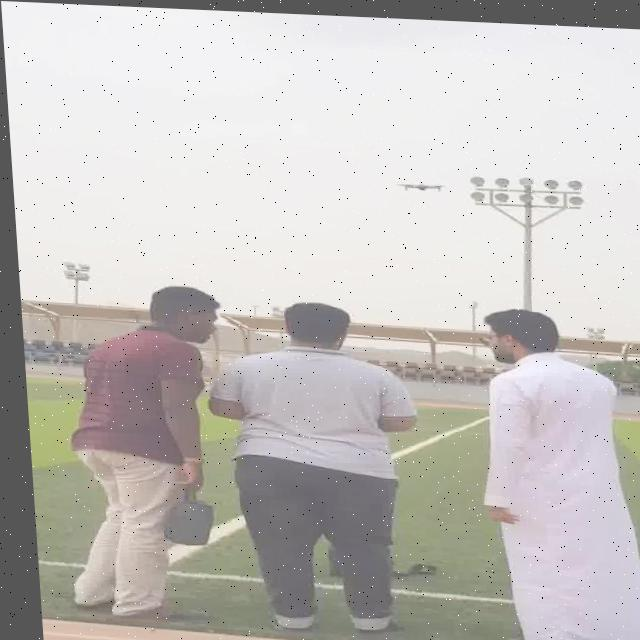drone: (393, 171, 448, 190)
